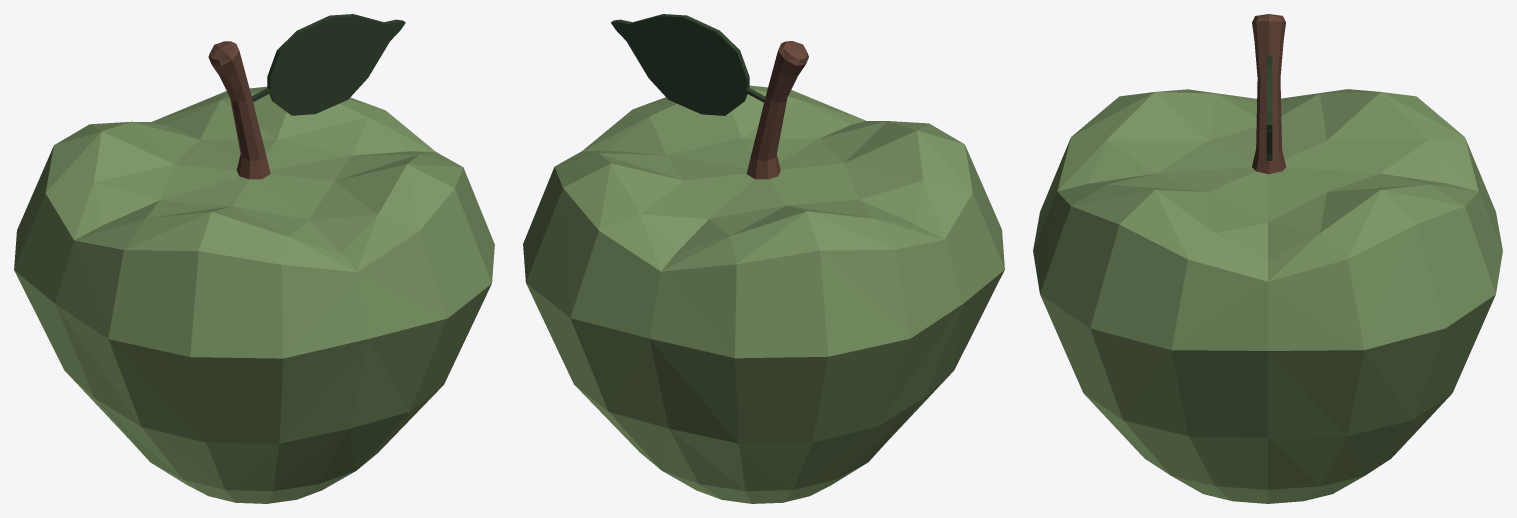
File: apple-green.glb
The picture shows the model from 3 angles, left to right: view 1: azimuth 30°, elevation 25°; view 2: azimuth 150°, elevation 25°; view 3: azimuth 270°, elevation 25°; orthographic projection. The views are drawn at different scales.
Visible parts, largest first — view 1: Apple_Green; view 2: Apple_Green; view 3: Apple_Green.
Boxes of the visible parts, <box> form: Apple_Green: <box>14,14,494,503</box>; Apple_Green: <box>523,14,1004,503</box>; Apple_Green: <box>1033,14,1502,503</box>.
Bounding box in the file's own units: 0.8025 × 0.8508 × 0.7987.
